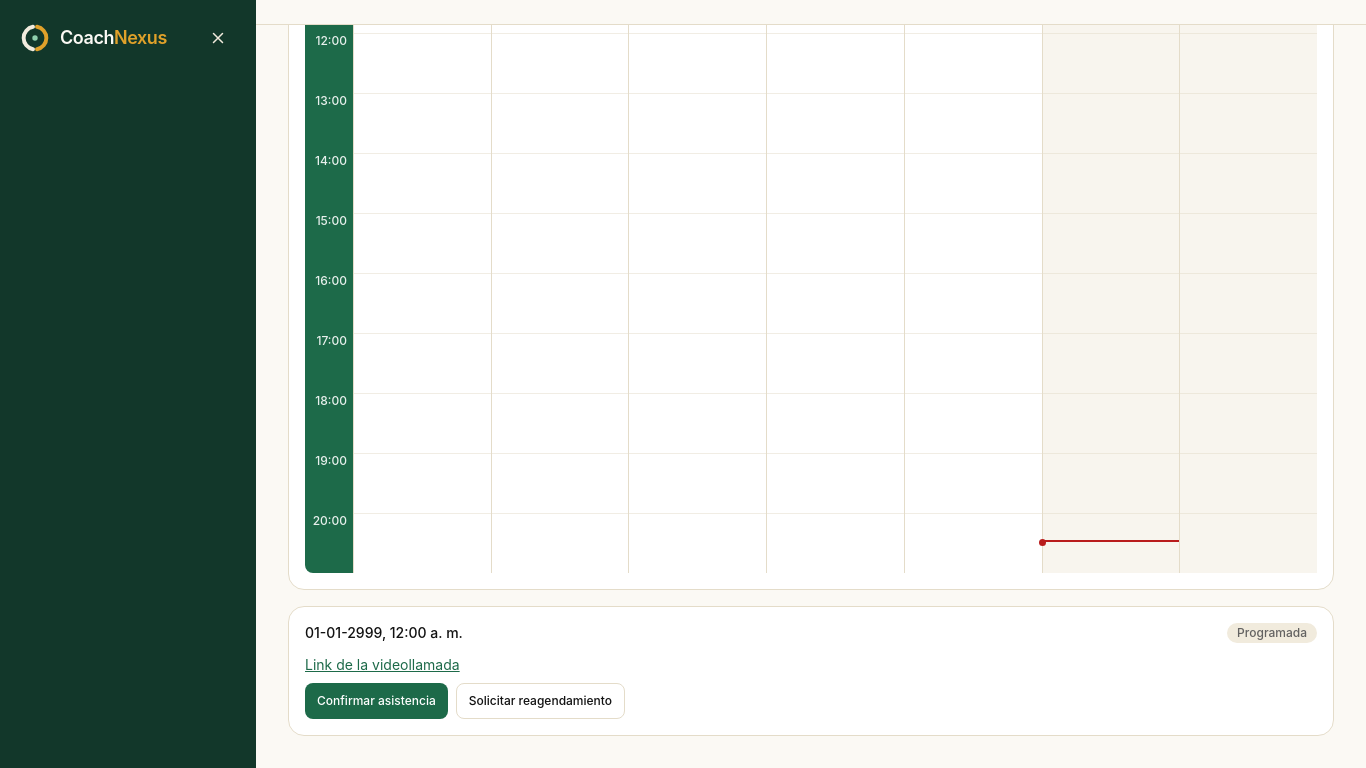
Scenario: SesionesView › lets the coachee confirm attendance for an unconfirmed future session
(page scrolled)
Expected: the text "Confirmada" is not shown
Click the button "Confirmar asistencia": {"x": 376, "y": 701} x1=305 y1=683 x2=448 y2=719
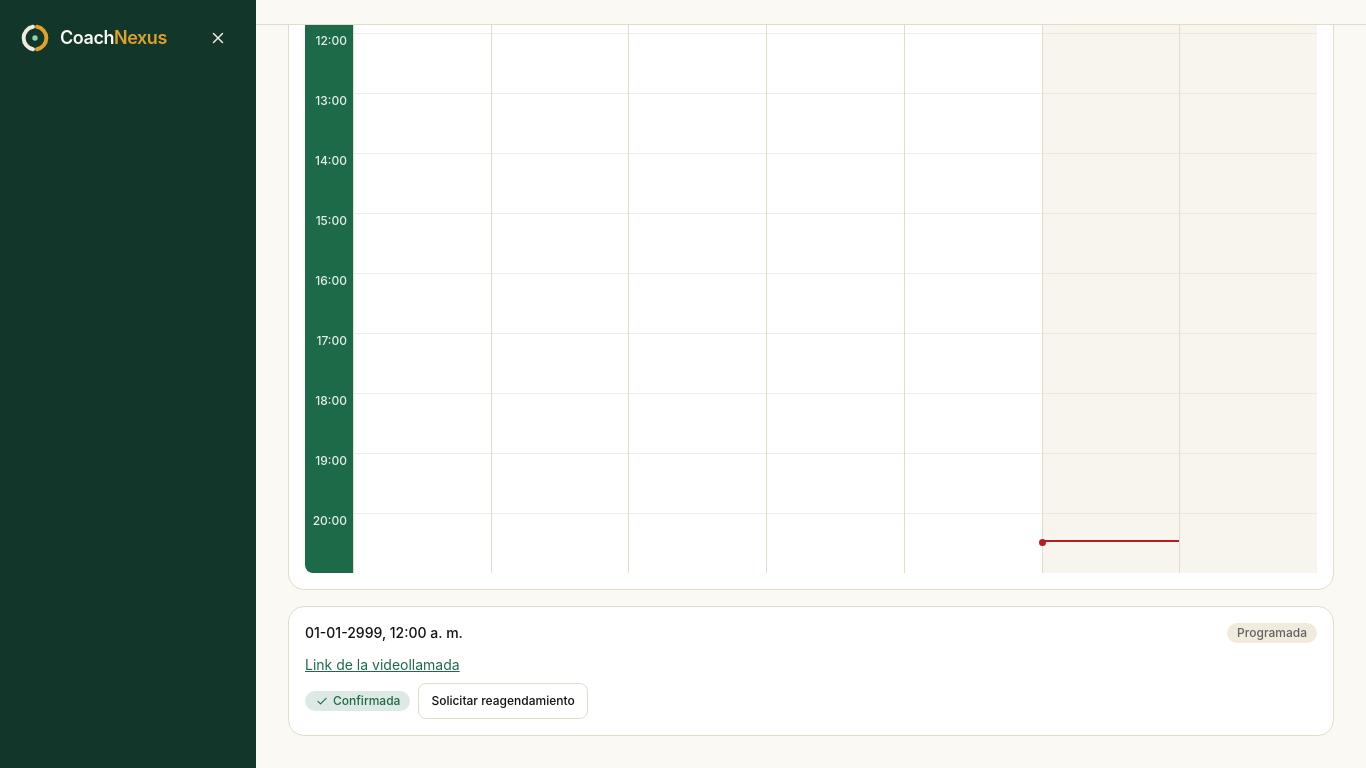
Result: the text "Confirmada" is shown at x1=305 y1=691 x2=410 y2=711
